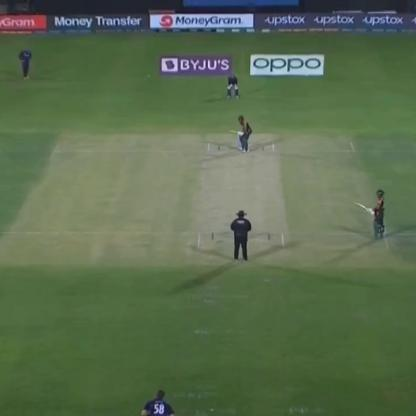bat: (345, 198, 377, 210), (228, 126, 240, 138)
pitch: (188, 140, 287, 254)
